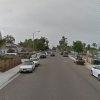Car: (18, 54, 41, 76)
